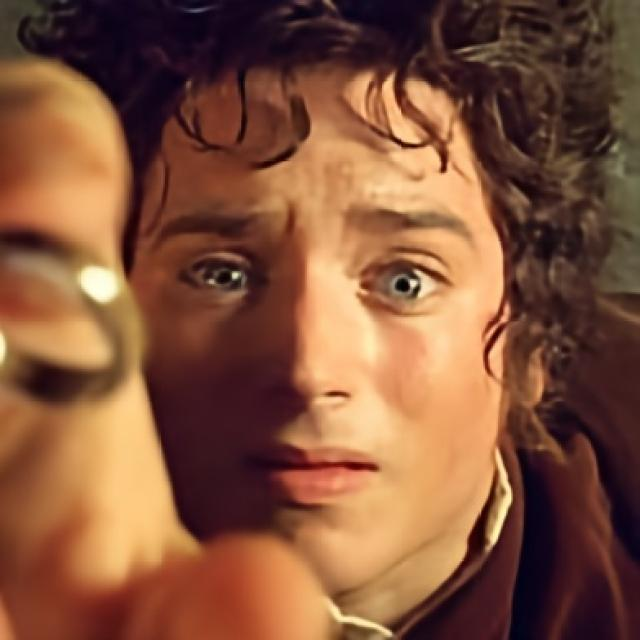fear: (138, 54, 518, 594)
